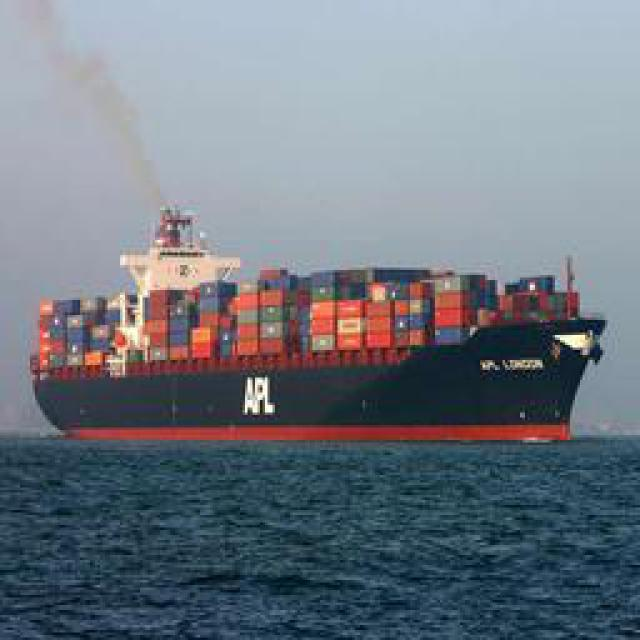Ship: (30, 195, 608, 448)
